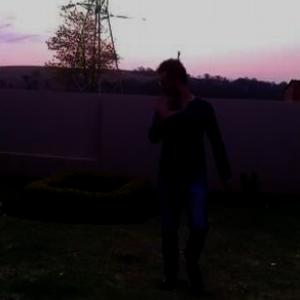follow_hand: (150, 92, 176, 124)
